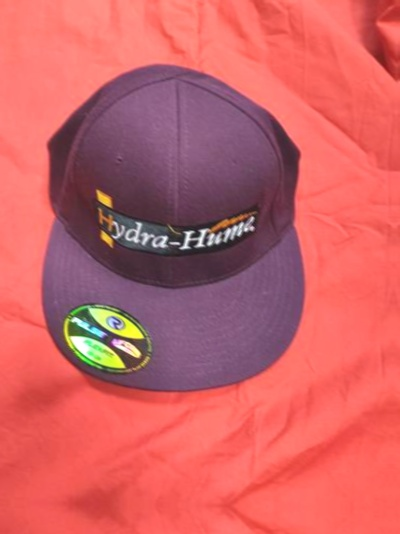Hat: (1, 31, 340, 422)
